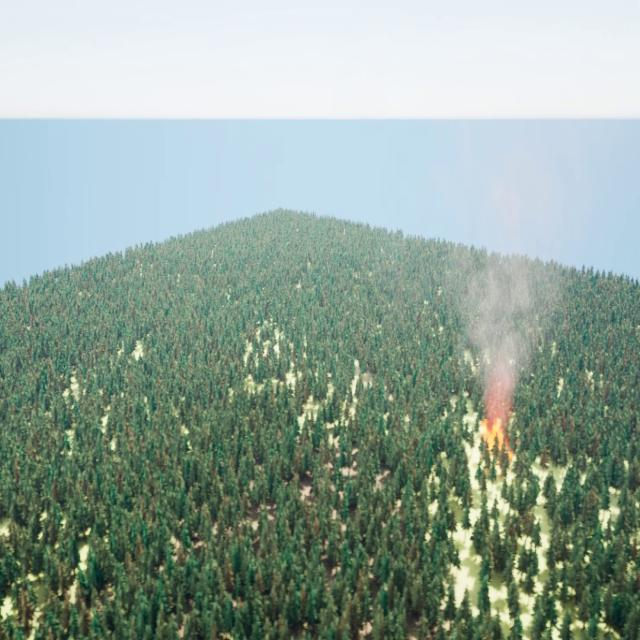fire: (477, 420, 515, 459)
smoke: (456, 242, 562, 418)
